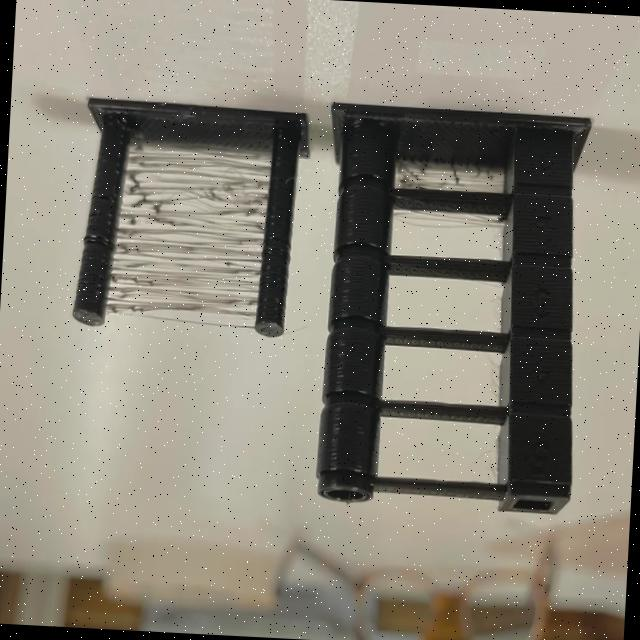stringing: (105, 144, 271, 329), (397, 166, 505, 193)
